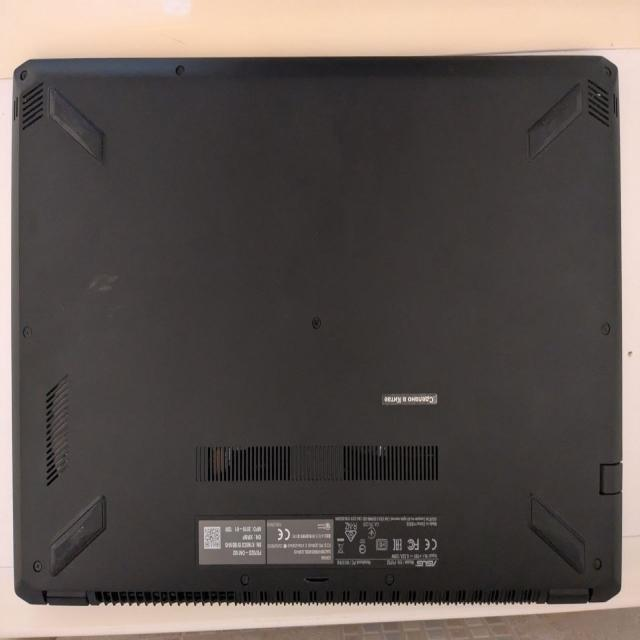other: (77, 248, 127, 312)
